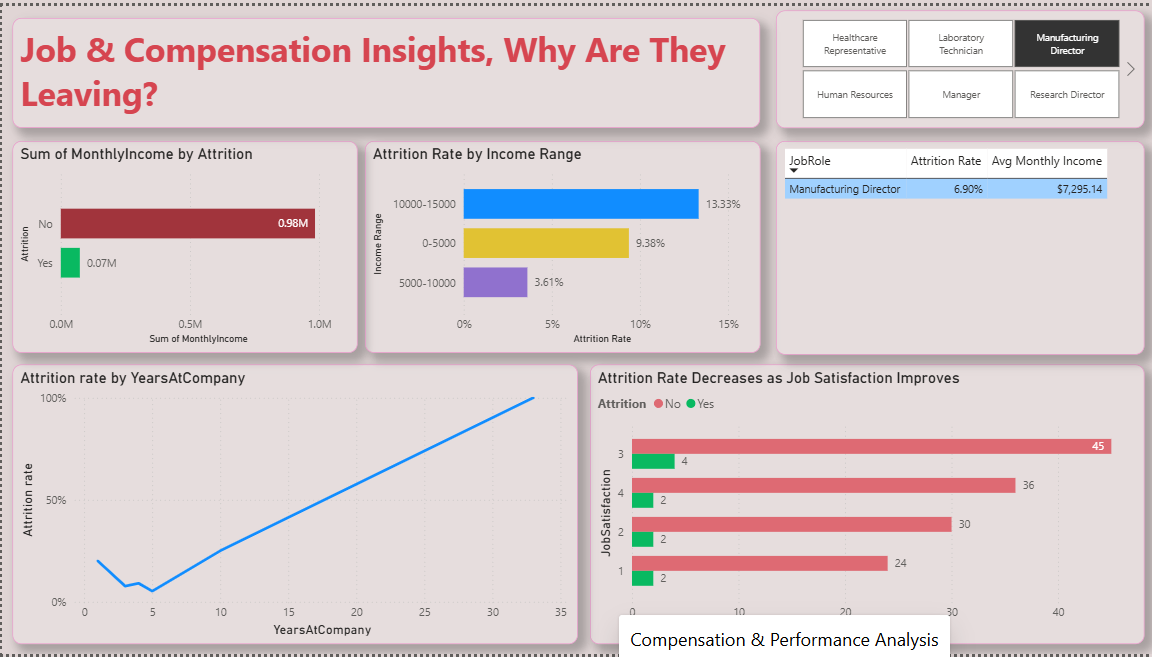

What the dashboard file says about the page in this screenshot:
{"tool":"powerbi","page":{"name":"Compensation & Performance Analysis","canvas":[1280,720],"ordinal":2},"visuals":[{"type":"barChart","fields":{"Category":["HR-Employee-Attrition.Attrition"],"Y":["Sum(HR-Employee-Attrition.MonthlyIncome)"]},"box":[11.2,149.3,383.1,235.1],"z":0},{"type":"barChart","fields":{"Category":["HR-Employee-Attrition.Income Range"],"Y":["HR-Employee-Attrition.Attrition Percentage"]},"box":[403,149.3,439.1,235.1],"z":1000},{"type":"clusteredBarChart","title":"Attrition Rate Decreases as Job Satisfaction Improves","fields":{"Category":["HR-Employee-Attrition.JobSatisfaction"],"Y":["HR-Employee-Attrition.Total Employees"],"Series":["HR-Employee-Attrition.Attrition"]},"box":[653.1,398.1,615.8,311],"z":2000},{"type":"lineChart","fields":{"Category":["HR-Employee-Attrition.YearsAtCompany"],"Y":["HR-Employee-Attrition.Attrition Percentage"]},"box":[11.2,398.1,628.2,311],"z":3000},{"type":"tableEx","fields":{"Values":["HR-Employee-Attrition.JobRole","HR-Employee-Attrition.Attrition Percentage","HR-Employee-Attrition.Avg Monthly Income"]},"box":[859.6,149.3,409.3,237.6],"z":4000},{"type":"slicer","fields":{"Values":["HR-Employee-Attrition.JobRole"]},"box":[859.6,5,409.3,130.6],"z":5000},{"type":"textbox","box":[11.2,13.7,831,121.9],"z":6000}]}

Visuals, with their boxes in screenshot pixels (x1, y1, x2, y2), scaled from the page's 1280x720 canvas onto the 1152x657 screenshot:
barChart - HR-Employee-Attrition.Attrition x Sum(HR-Employee-Attrition.MonthlyIncome): l=10, t=136, r=355, b=351
barChart - HR-Employee-Attrition.Income Range x HR-Employee-Attrition.Attrition Percentage: l=363, t=136, r=758, b=351
"Attrition Rate Decreases as Job Satisfaction Improves" clusteredBarChart: l=588, t=363, r=1142, b=647
lineChart - HR-Employee-Attrition.YearsAtCompany x HR-Employee-Attrition.Attrition Percentage: l=10, t=363, r=575, b=647
tableEx - HR-Employee-Attrition.JobRole x HR-Employee-Attrition.Attrition Percentage: l=774, t=136, r=1142, b=353
slicer - HR-Employee-Attrition.JobRole: l=774, t=5, r=1142, b=124
textbox: l=10, t=13, r=758, b=124
